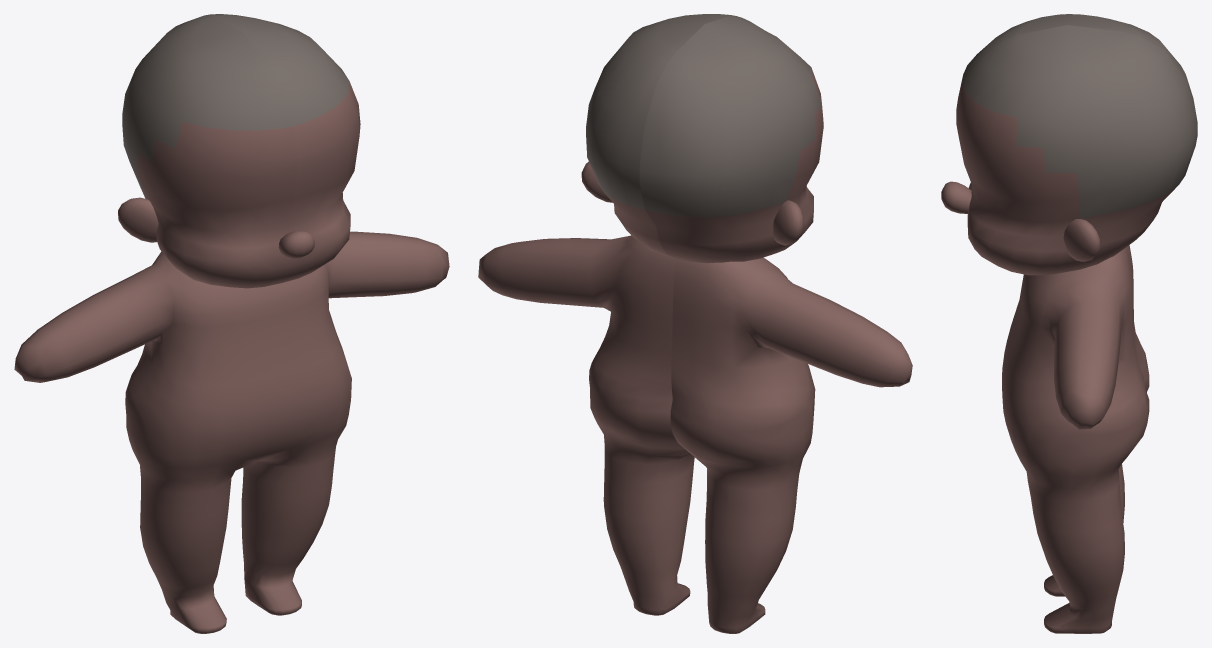
Rendered from BabyModel.fbx.
3 views of the same model, side by side, from view 1: azimuth 30°, elevation 25°; view 2: azimuth 150°, elevation 25°; view 3: azimuth 270°, elevation 25° (orthographic).
Parts seen in each view (by area): view 1: Baby; view 2: Baby; view 3: Baby.
Part boxes in pixels (x1,y1,x2,y2): Baby: [14, 14, 449, 633]; Baby: [478, 14, 912, 633]; Baby: [941, 14, 1197, 633].
Bounding box in the file's own units: 105 × 136 × 54.34.
